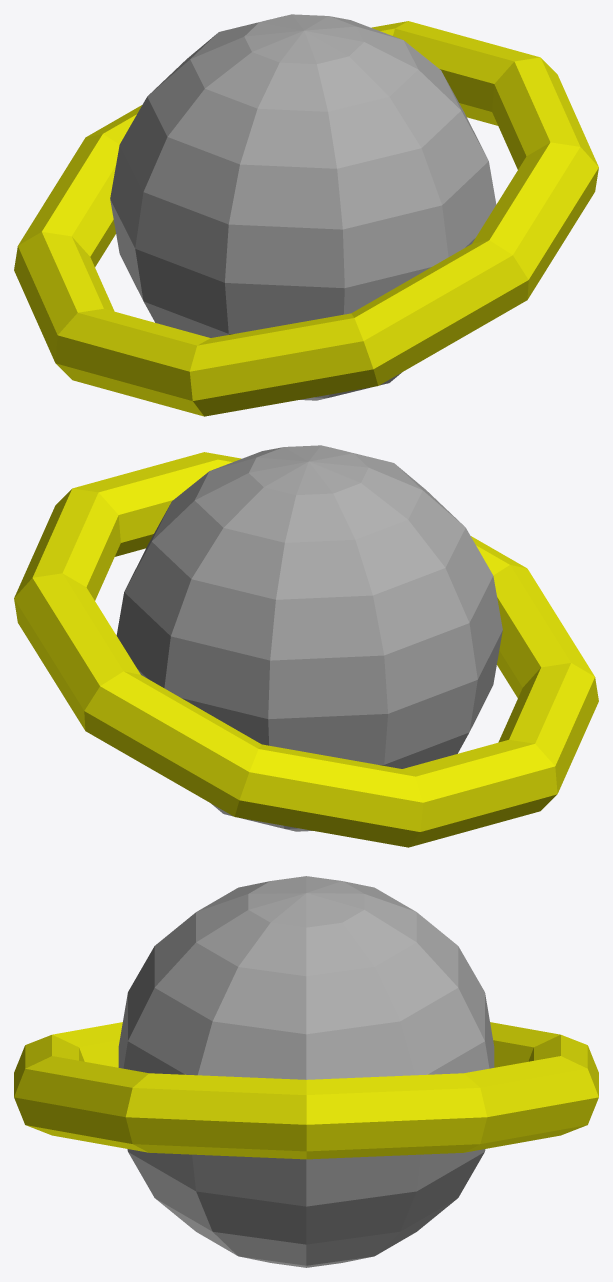
Rendered from planet_single.fbx.
The picture shows the model from 3 angles, top to bottom: view 1: azimuth 30°, elevation 25°; view 2: azimuth 150°, elevation 25°; view 3: azimuth 270°, elevation 25°; orthographic projection.
Parts seen in each view (by area): view 1: pTorus2; view 2: pTorus2; view 3: pTorus2.
Part boxes in pixels (bbox=[...]): pTorus2: bbox=[14, 14, 598, 416]; pTorus2: bbox=[14, 445, 598, 847]; pTorus2: bbox=[14, 876, 598, 1267].
Bounding box in the file's own units: 14.07 × 9.47 × 14.04.
